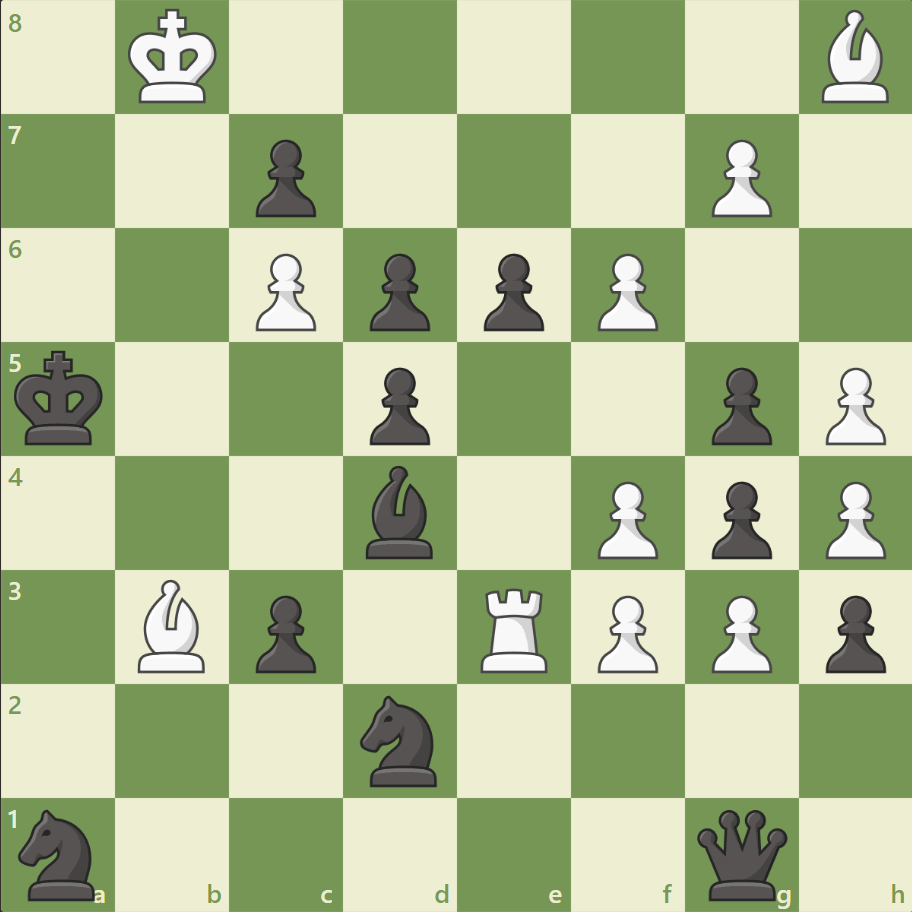B: (812, 6, 896, 109), (131, 574, 215, 676)
K: (124, 4, 224, 112)
P: (701, 132, 776, 223), (247, 246, 322, 337), (701, 586, 776, 677), (588, 246, 662, 337), (815, 359, 889, 450), (588, 473, 662, 564), (815, 473, 889, 564), (588, 586, 662, 677)
R: (473, 579, 556, 676)
b: (358, 460, 442, 563)
k: (11, 344, 111, 452)
n: (351, 688, 449, 791), (11, 802, 108, 904)
p: (247, 132, 322, 223), (474, 246, 549, 337), (701, 359, 776, 450), (701, 473, 776, 564), (247, 586, 322, 677), (361, 246, 435, 337), (361, 359, 435, 450), (815, 586, 889, 677)
q: (691, 804, 790, 903)
